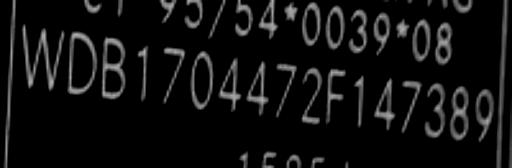letter: (14, 20, 66, 93), (59, 27, 99, 95), (94, 35, 132, 103), (184, 47, 222, 113), (263, 60, 301, 126), (154, 43, 188, 111), (240, 58, 274, 126), (212, 52, 248, 116), (390, 76, 424, 141), (342, 65, 376, 128), (371, 73, 401, 138), (128, 40, 158, 103), (322, 66, 352, 124), (297, 68, 327, 126), (419, 79, 447, 139), (445, 84, 473, 144), (470, 86, 496, 143)
